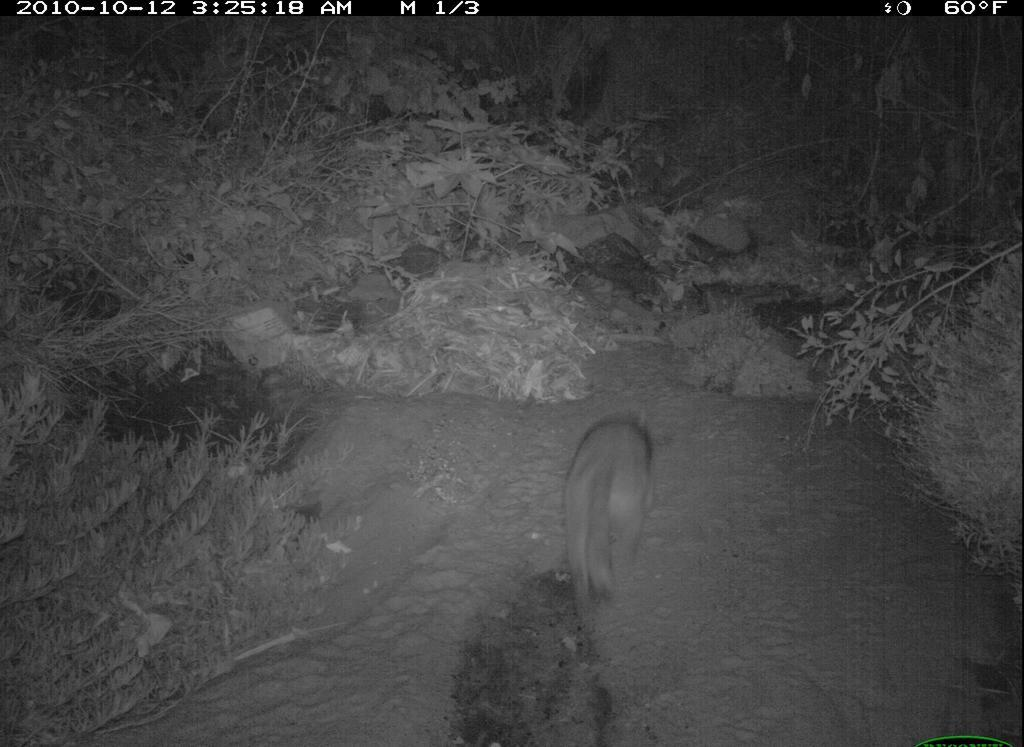raccoon: (537, 381, 696, 652)
